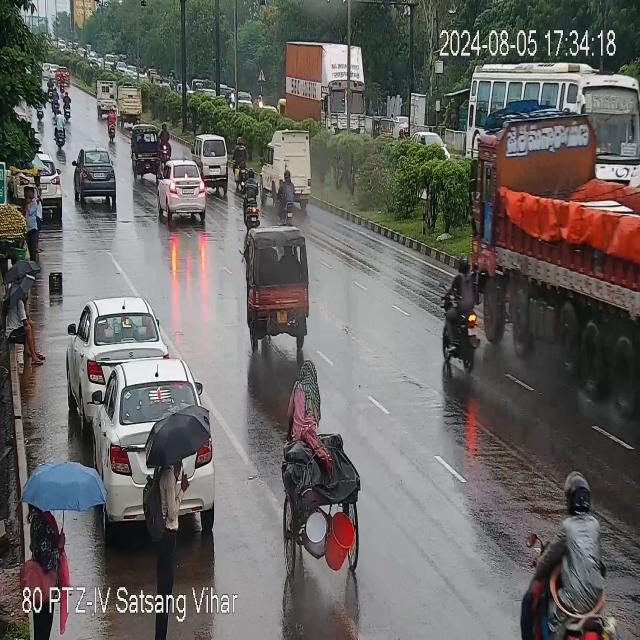2-wheelers: (522, 474, 640, 636), (438, 256, 478, 376), (229, 137, 251, 191), (243, 166, 262, 228), (282, 165, 296, 225), (101, 108, 120, 143), (162, 120, 172, 161), (56, 109, 66, 148), (53, 85, 60, 116), (65, 91, 71, 124)
auto: (241, 227, 312, 339), (132, 124, 166, 180), (373, 114, 396, 138)
bus: (466, 61, 640, 183)
car: (93, 362, 213, 532), (67, 298, 166, 430), (259, 125, 319, 210), (10, 154, 64, 225), (159, 163, 210, 224), (70, 150, 116, 207), (191, 135, 230, 182)
pedestrian: (142, 413, 211, 586), (19, 457, 97, 579), (1, 261, 43, 368), (24, 183, 41, 261)
truck: (476, 132, 640, 329), (283, 37, 364, 135)
